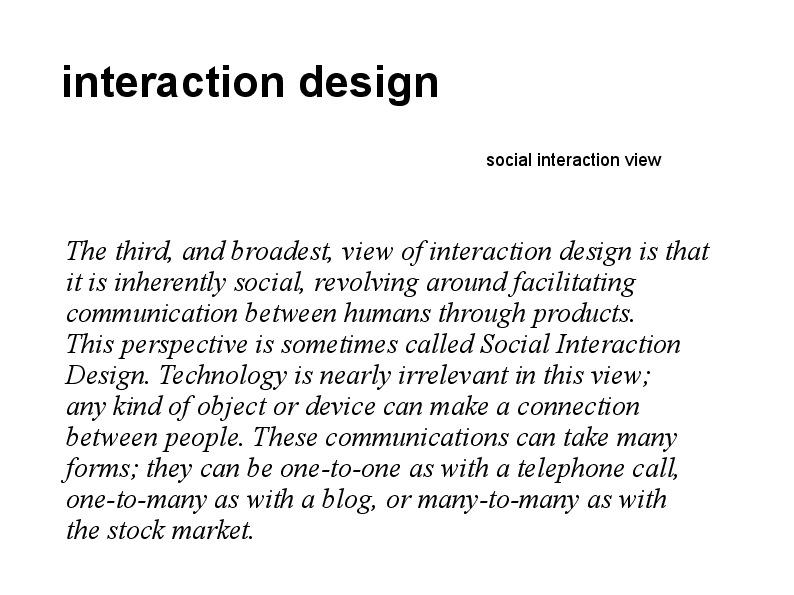paragraph: (58, 208, 754, 558)
subtitle: (478, 143, 678, 177)
title: (58, 36, 459, 118)
